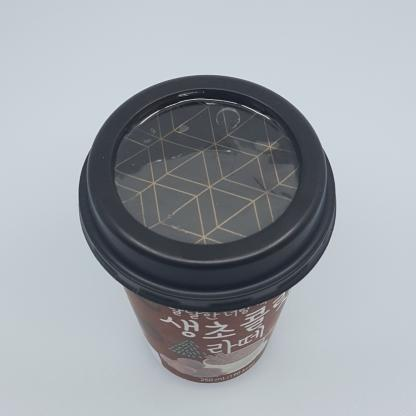----------250ML: (78, 74, 337, 384)
